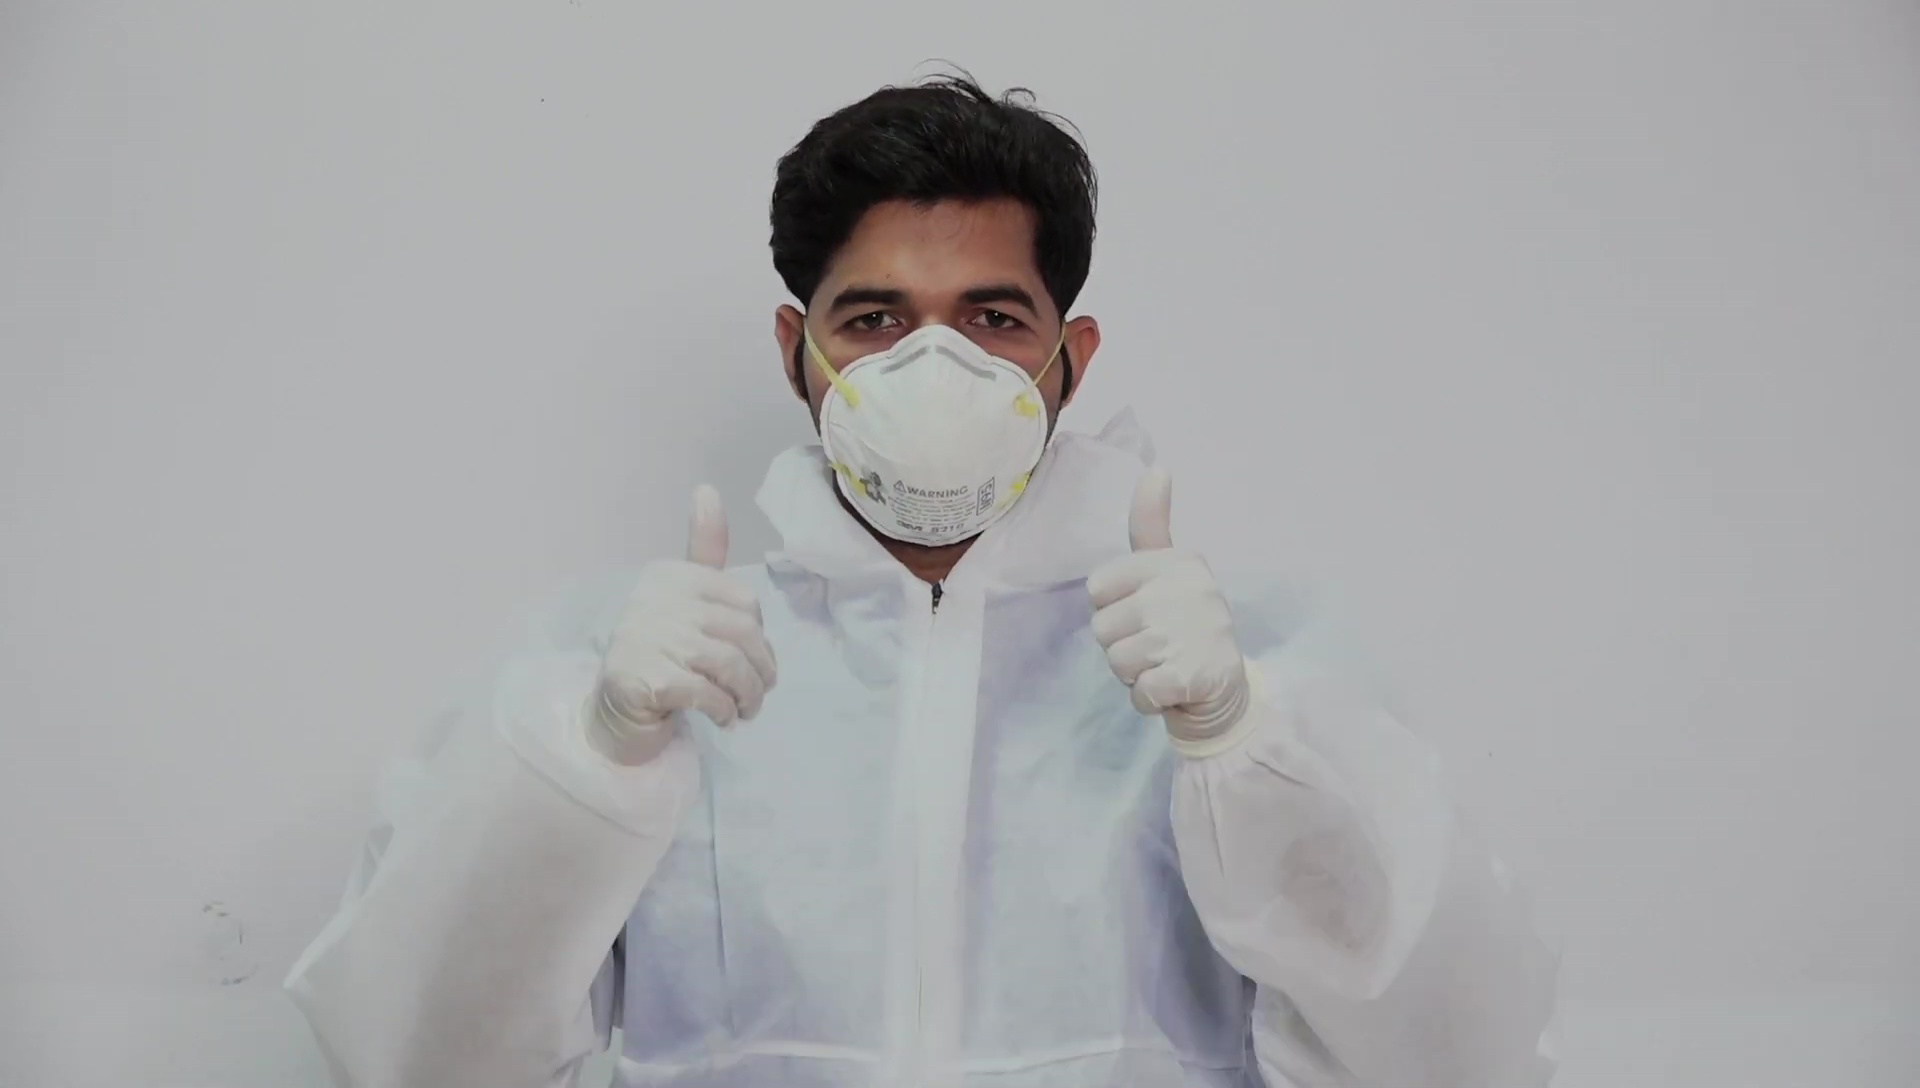Coverall: (297, 550, 1559, 1083)
Gloves: (584, 481, 776, 760), (1083, 464, 1252, 742)
with_mask: (820, 324, 1046, 549)
